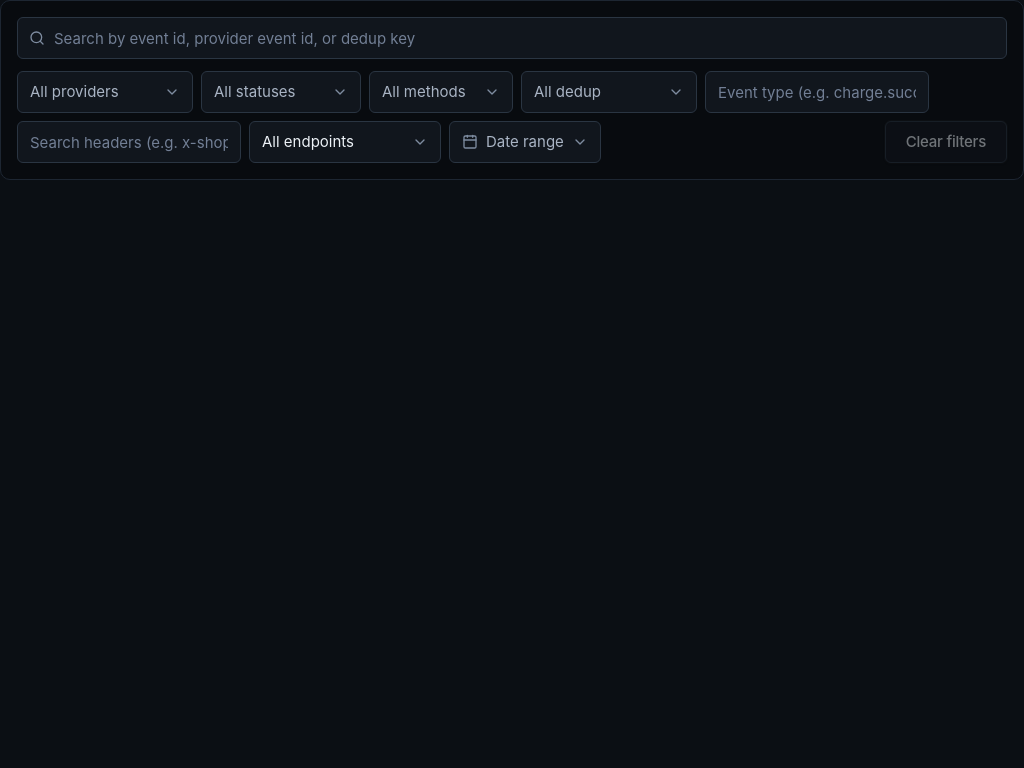
Test case: EventsFilterBar — the endpoint facet (org-wide browse only) › shows a just-picked endpoint immediately, before the navigation commits
This screenshot has width=1024, height=768.
What coordinates should you click on to do the following:
click the button with aria-label "Filter by endpoint"
I would click on:
 (345, 142)
Its box is x1=249 y1=121 x2=441 y2=163.
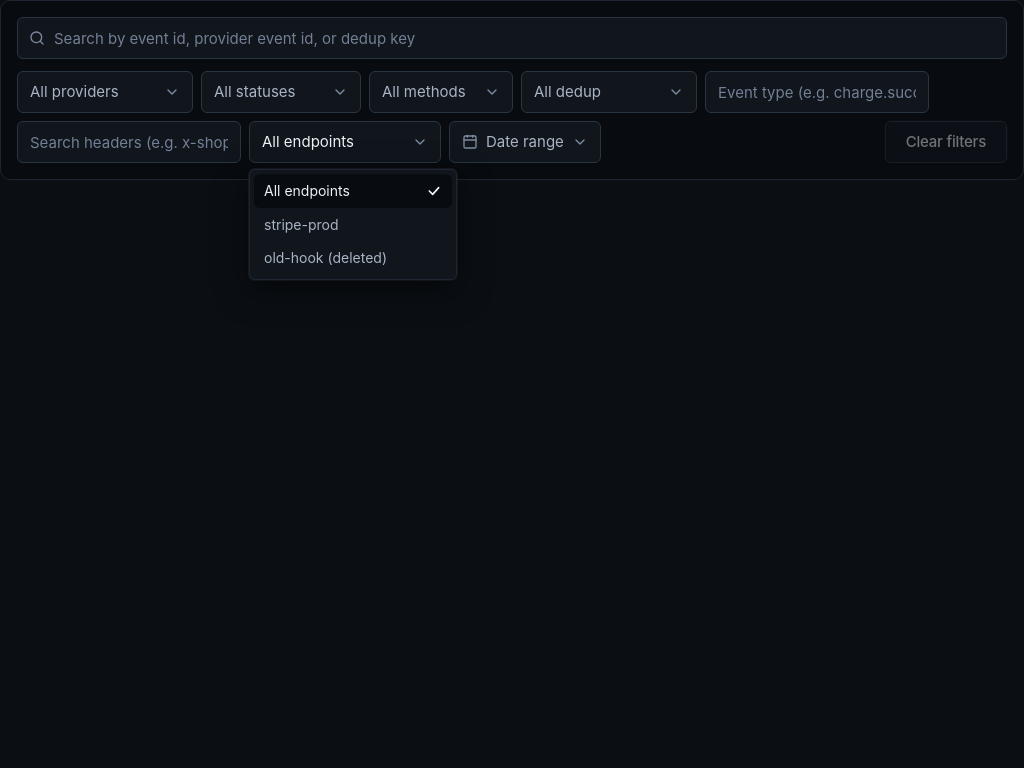
What coordinates should you click on to do the following:
click the option "stripe-prod"
I would click on:
 (353, 225)
Its box is x1=254 y1=208 x2=452 y2=241.
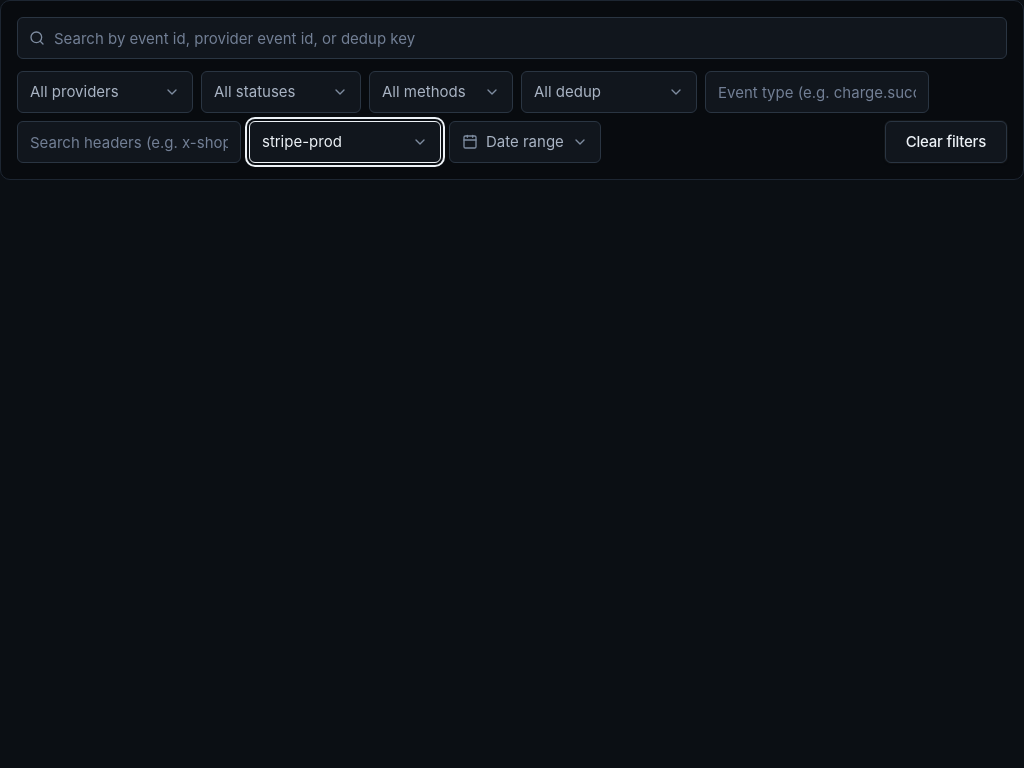
Expected: the button with aria-label "Filter by endpoint" reads "stripe-prod", x1=249 y1=121 x2=441 y2=163
